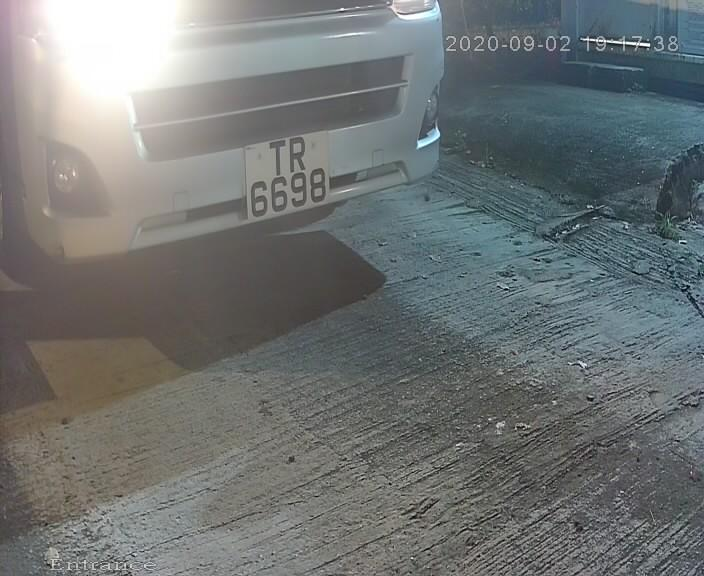License Plate: (230, 119, 343, 235)
